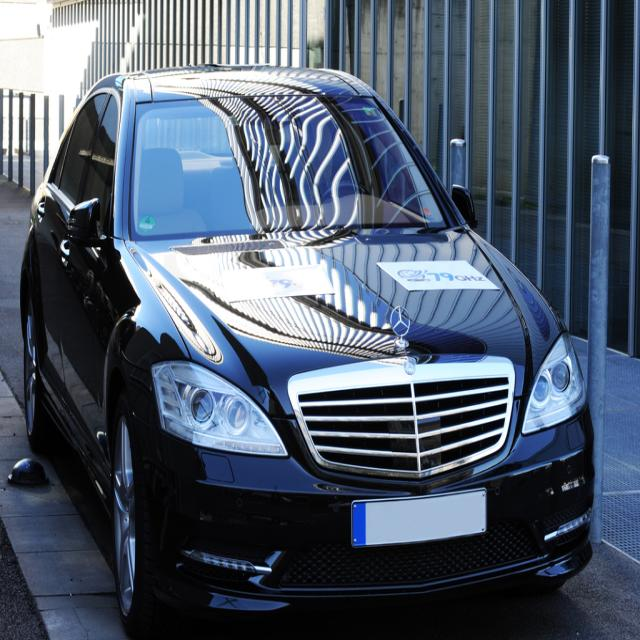Car: (20, 63, 595, 640)
